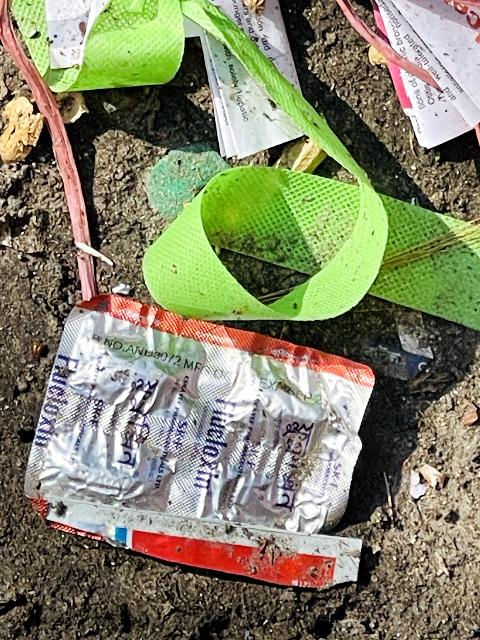medicine: (28, 287, 367, 597)
